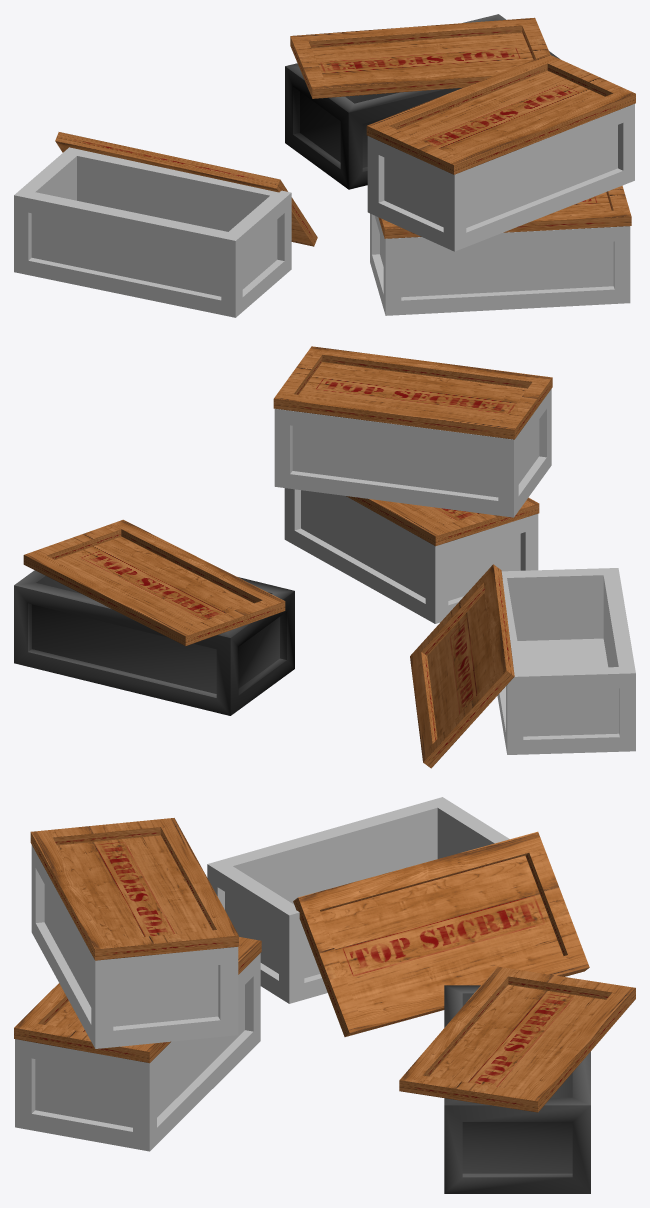
File: boxes.FBX
The picture shows the model from 3 angles, top to bottom: view 1: azimuth 30°, elevation 25°; view 2: azimuth 150°, elevation 25°; view 3: azimuth 270°, elevation 25°; orthographic projection. The views are drawn at different scales.
Visible parts, largest first — view 1: Box07, Box05, Box04, Box06, Box02, Box01, Box08, Box03; view 2: Box07, Box01, Box05, Box04, Box06, Box02, Box08, Box03; view 3: Box08, Box07, Box02, Box06, Box04, Box05, Box01, Box03.
Boxes of the visible parts, x1,y1,x2,y2 form: Box07: (14,147,291,317); Box05: (367,104,634,251); Box04: (370,213,630,315); Box06: (366,54,635,174); Box02: (290,17,550,98); Box01: (285,14,559,189); Box08: (55,132,317,246); Box03: (378,185,631,238); Box07: (497,568,635,754); Box01: (14,570,294,715); Box05: (274,389,551,517); Box04: (284,488,538,623); Box06: (273,346,552,439); Box02: (23,519,285,645); Box08: (410,564,514,768); Box03: (346,496,539,546); Box08: (293,831,589,1036); Box07: (207,797,509,1003); Box02: (399,966,635,1112); Box06: (30,818,238,960); Box04: (15,953,260,1151); Box05: (31,845,238,1048); Box01: (444,985,590,1193); Box03: (14,937,261,1063).
Size of the model in its own units: 245 by 74.99 by 204.
